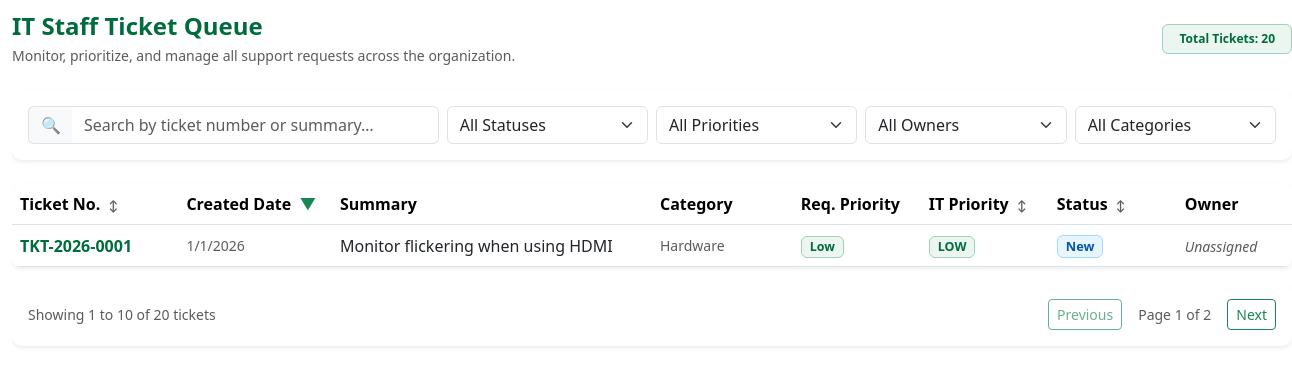
Scenario: StaffTicketQueue Component (Lab 3) › UI-05: Pagination (AC-13) › disables Next button when at the last page
Click Next to navigate to Page 2
Click the button with aria-label "next page": (1252, 315) [1227,299,1276,330]
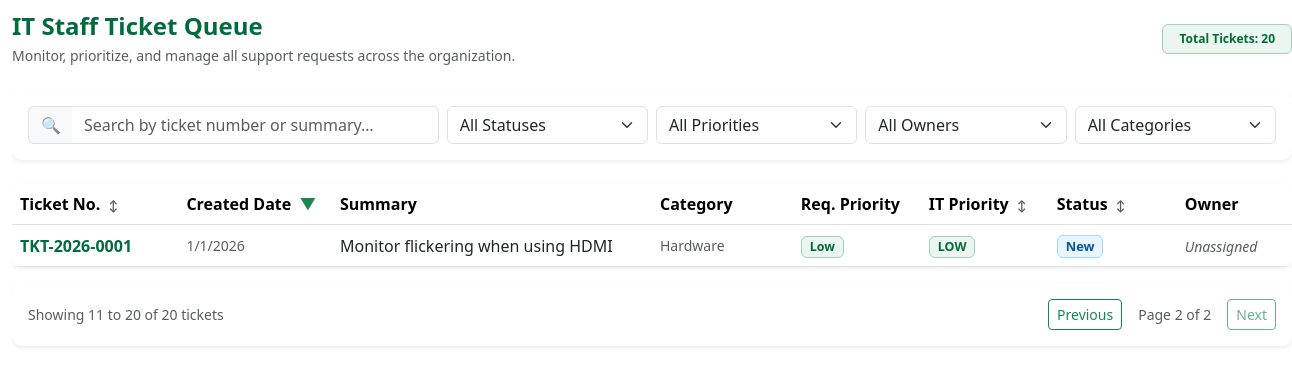
Expected: the text "Page 2 of 2" is shown, [1138,305,1211,324]
Expected: the button with aria-label "next page" is disabled, [1227,299,1276,330]
